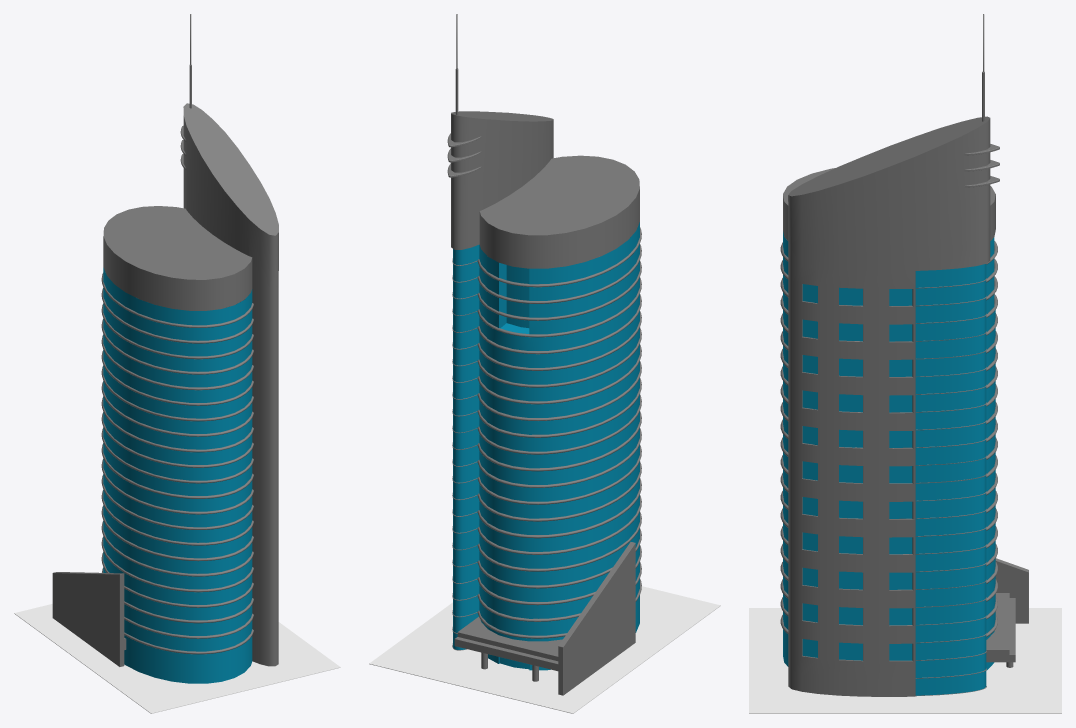
Rendered from building-transformed.glb.
3 renders of one model, left to right at view 1: azimuth 30°, elevation 25°; view 2: azimuth 150°, elevation 25°; view 3: azimuth 270°, elevation 25°, orthographic. The views are drawn at different scales.
Parts seen in each view (by area): view 1: Object26_glass_0, Cylinder111, Shape12, Cylinder110, Box09, Box399; view 2: Object26_glass_0, Shape12, Cylinder110, Box09, Object22_glass_0, Cylinder111, Box399, Shape13; view 3: Cylinder111, Object22_glass_0, Box09, Object26_glass_0, Object24_glass_0, Object23_glass_0, Shape12, Object25_glass_0, Box399, Shape13, Cylinder110.
Part boxes in pixels (left/top/right/bottom): Object26_glass_0: left=103, top=267, right=252, bottom=683; Cylinder111: left=183, top=103, right=278, bottom=666; Shape12: left=101, top=273, right=253, bottom=654; Cylinder110: left=103, top=206, right=252, bottom=310; Box09: left=14, top=604, right=340, bottom=713; Box399: left=52, top=572, right=126, bottom=666; Object26_glass_0: left=479, top=222, right=639, bottom=670; Shape12: left=477, top=227, right=641, bottom=638; Cylinder110: left=479, top=155, right=639, bottom=268; Box09: left=369, top=586, right=720, bottom=713; Object22_glass_0: left=453, top=245, right=479, bottom=649; Cylinder111: left=451, top=111, right=553, bottom=249; Box399: left=454, top=542, right=635, bottom=695; Shape13: left=452, top=258, right=477, bottom=650; Cylinder111: left=788, top=116, right=990, bottom=696; Object22_glass_0: left=915, top=264, right=986, bottom=695; Box09: left=749, top=608, right=1061, bottom=713; Object26_glass_0: left=783, top=231, right=995, bottom=670; Object24_glass_0: left=839, top=287, right=862, bottom=660; Object23_glass_0: left=889, top=289, right=912, bottom=660; Shape12: left=780, top=241, right=997, bottom=636; Object25_glass_0: left=802, top=284, right=817, bottom=657; Box399: left=889, top=558, right=1028, bottom=662; Shape13: left=916, top=278, right=986, bottom=696; Cylinder110: left=783, top=168, right=995, bottom=240.
Bounding box in the file's own units: 370 × 1100 × 464.
